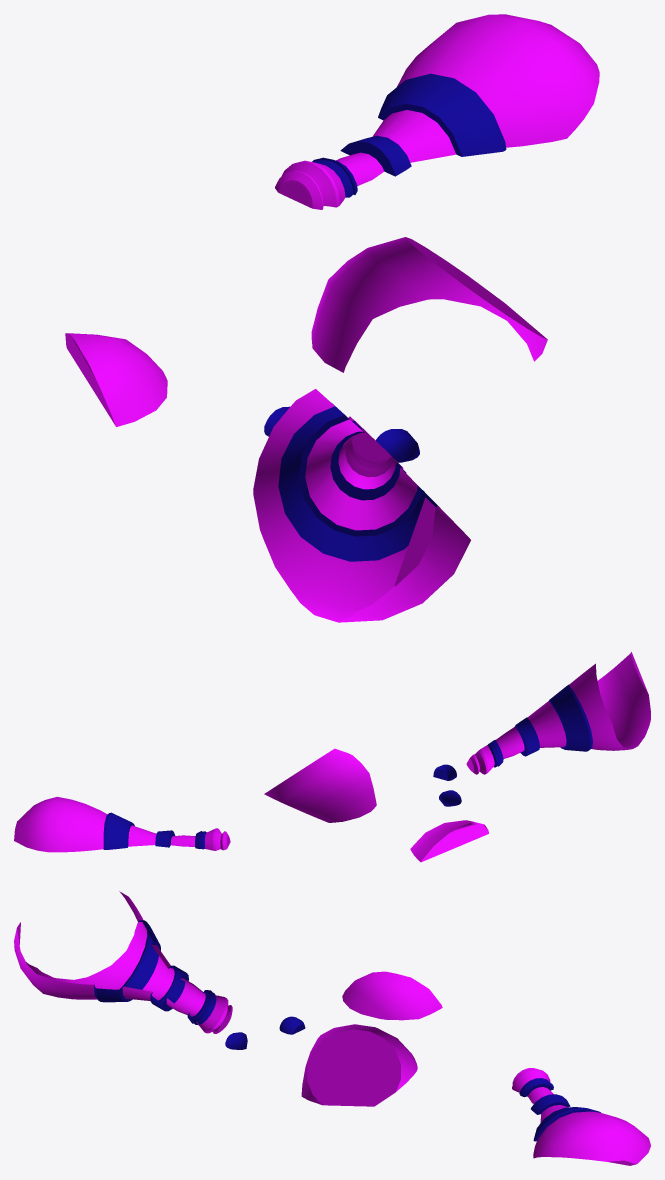
The model's file is BrokenPotion.FBX.
3 renders of one model, top to bottom at view 1: azimuth 30°, elevation 25°; view 2: azimuth 150°, elevation 25°; view 3: azimuth 270°, elevation 25°, orthographic. The views are drawn at different scales.
Visible parts, largest first — view 1: Potion 2_frag_006; view 2: Potion 2_frag_006; view 3: Potion 2_frag_006.
Part boxes in pixels (bbox=[...]): Potion 2_frag_006: bbox=[65, 14, 599, 622]; Potion 2_frag_006: bbox=[14, 652, 650, 862]; Potion 2_frag_006: bbox=[14, 891, 650, 1165].
Bounding box in the file's own units: 53.03 × 12.86 × 71.74.
